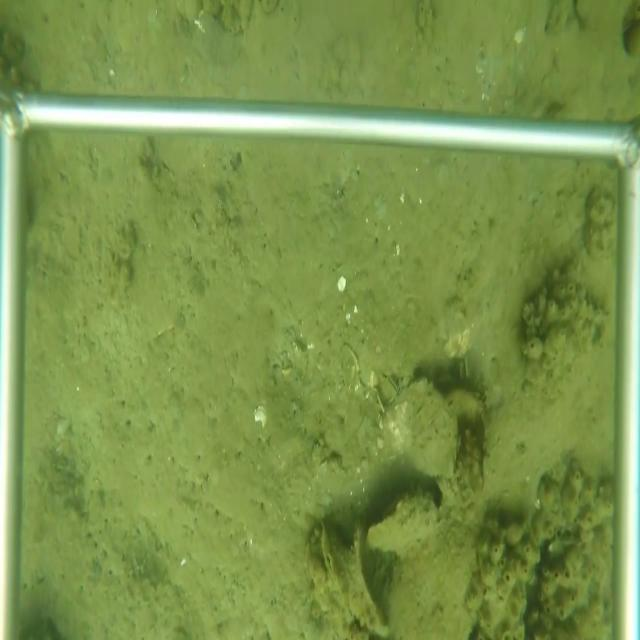Oyster-Closed: (295, 523, 344, 635), (316, 519, 358, 630), (350, 516, 388, 631), (561, 292, 612, 332)
Oyster-Indeterminate: (373, 375, 461, 480), (368, 488, 443, 561)
